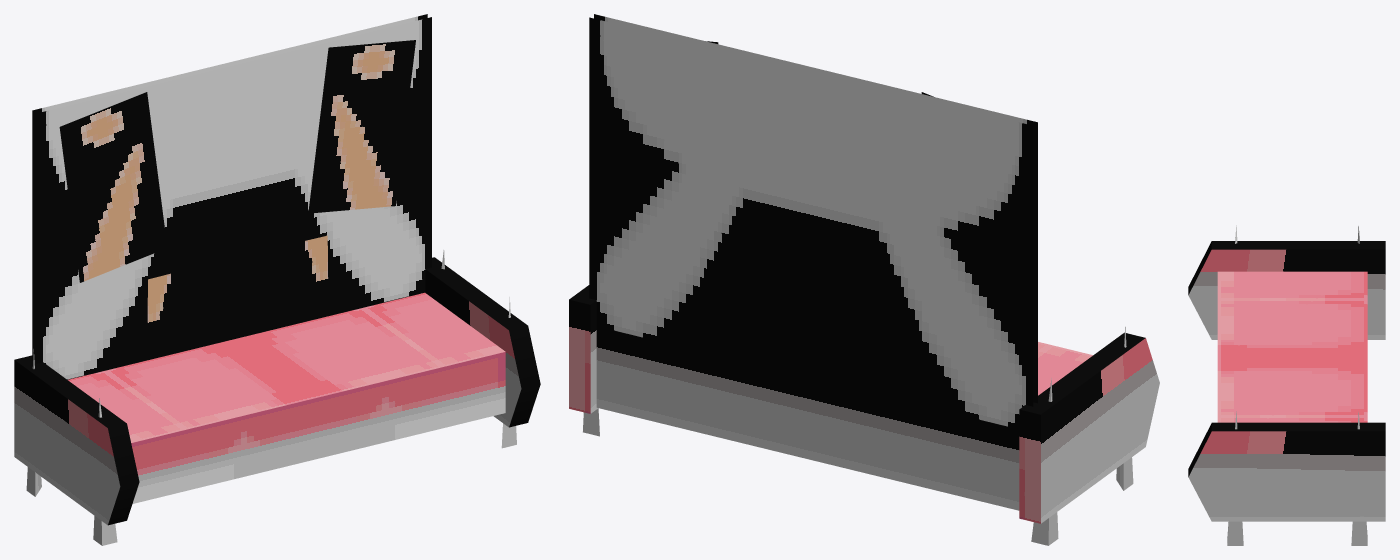
The picture shows the model from 3 angles, left to right: view 1: azimuth 30°, elevation 25°; view 2: azimuth 150°, elevation 25°; view 3: azimuth 270°, elevation 25°; orthographic projection. The views are drawn at different scales.
Visible parts, largest first — view 1: 3840kg3_ser21; view 2: 3840kg3_ser21; view 3: 3840kg3_ser21.
Part boxes in pixels (bbox=[...]): 3840kg3_ser21: bbox=[14, 14, 540, 545]; 3840kg3_ser21: bbox=[569, 14, 1159, 545]; 3840kg3_ser21: bbox=[1188, 225, 1385, 545].
Bounding box in the file's own units: 1.92 × 1.64 × 0.8394.
3 materials, 3 textured.
